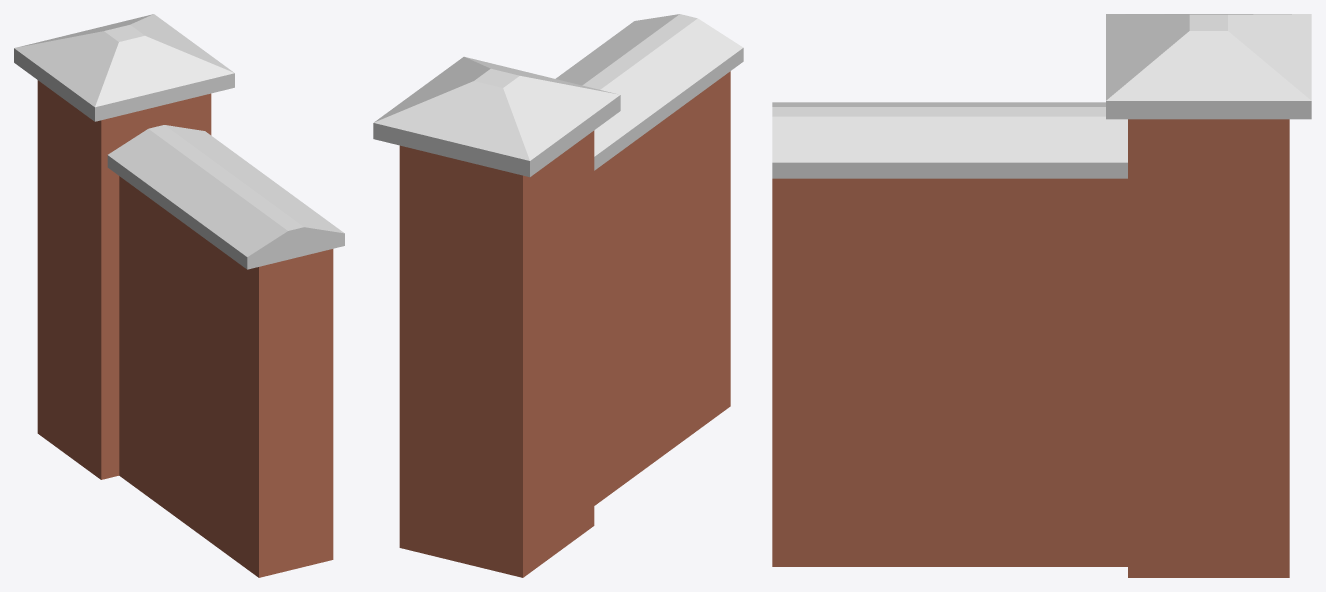
Rendered from brick_wall_02.fbx.
3 views of the same model, side by side, from view 1: azimuth 30°, elevation 25°; view 2: azimuth 150°, elevation 25°; view 3: azimuth 270°, elevation 25° (orthographic). The views are drawn at different scales.
Parts seen in each view (by area): view 1: BrickWall_02; view 2: BrickWall_02; view 3: BrickWall_02.
Part boxes in pixels (x1=…): BrickWall_02: x1=14, y1=14, x2=344, y2=577; BrickWall_02: x1=373, y1=14, x2=743, y2=577; BrickWall_02: x1=772, y1=14, x2=1311, y2=577.
Bounding box in the file's own units: 94.22 × 263 × 247.
